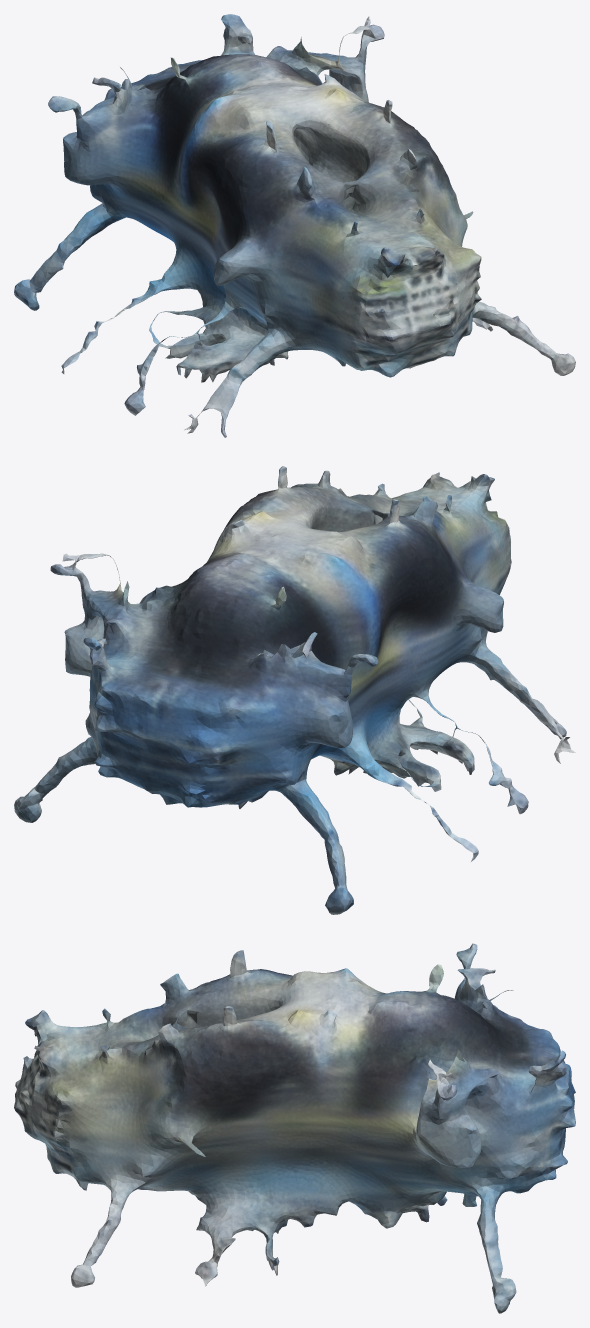
Rendered from archigram.glb.
The picture shows the model from 3 angles, top to bottom: view 1: azimuth 30°, elevation 25°; view 2: azimuth 150°, elevation 25°; view 3: azimuth 270°, elevation 25°; orthographic projection. The views are drawn at different scales.
Size of the model in its own units: 0.7605 by 0.5259 by 1.01.
Materials: 1 (1 with a texture image).
